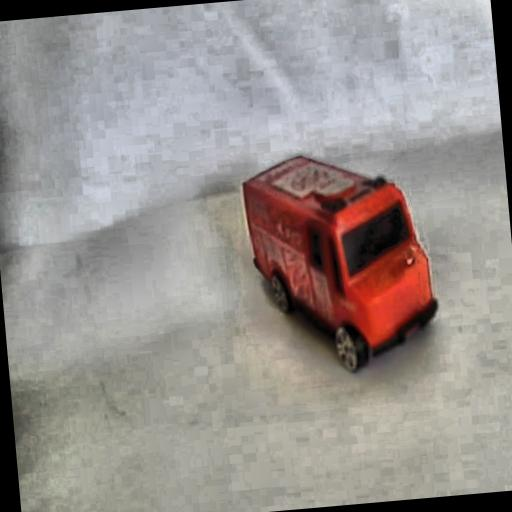fire_truck: (236, 138, 447, 384)
